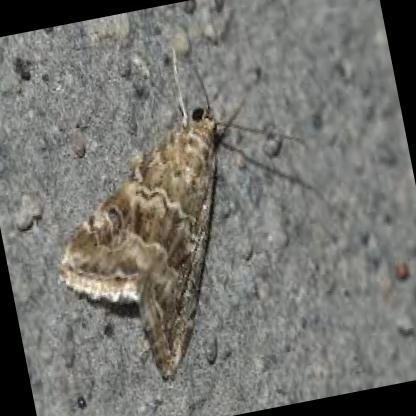Hellula undalis: (54, 33, 309, 408)
